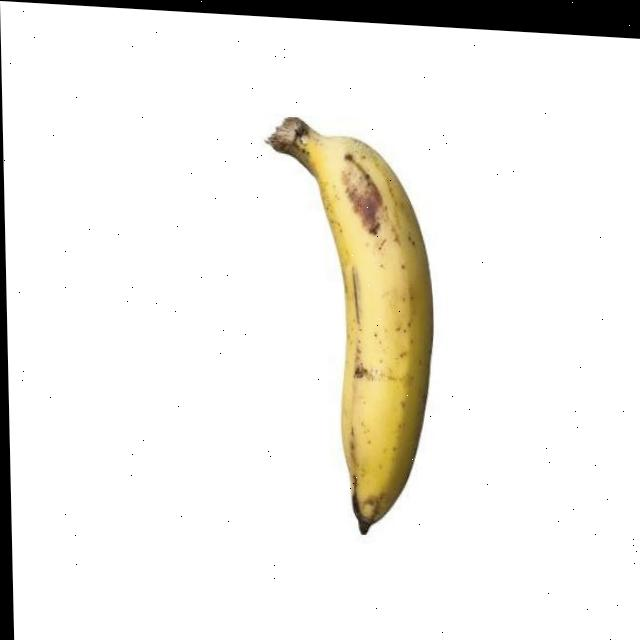banana: (311, 129, 442, 544)
